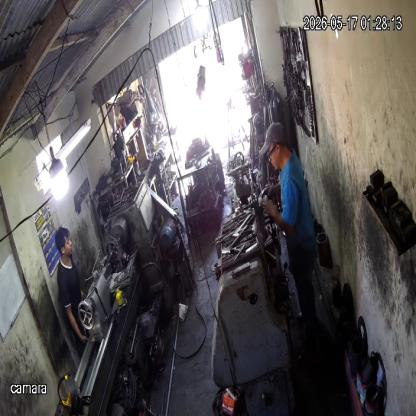lentes: (266, 142, 278, 160)
